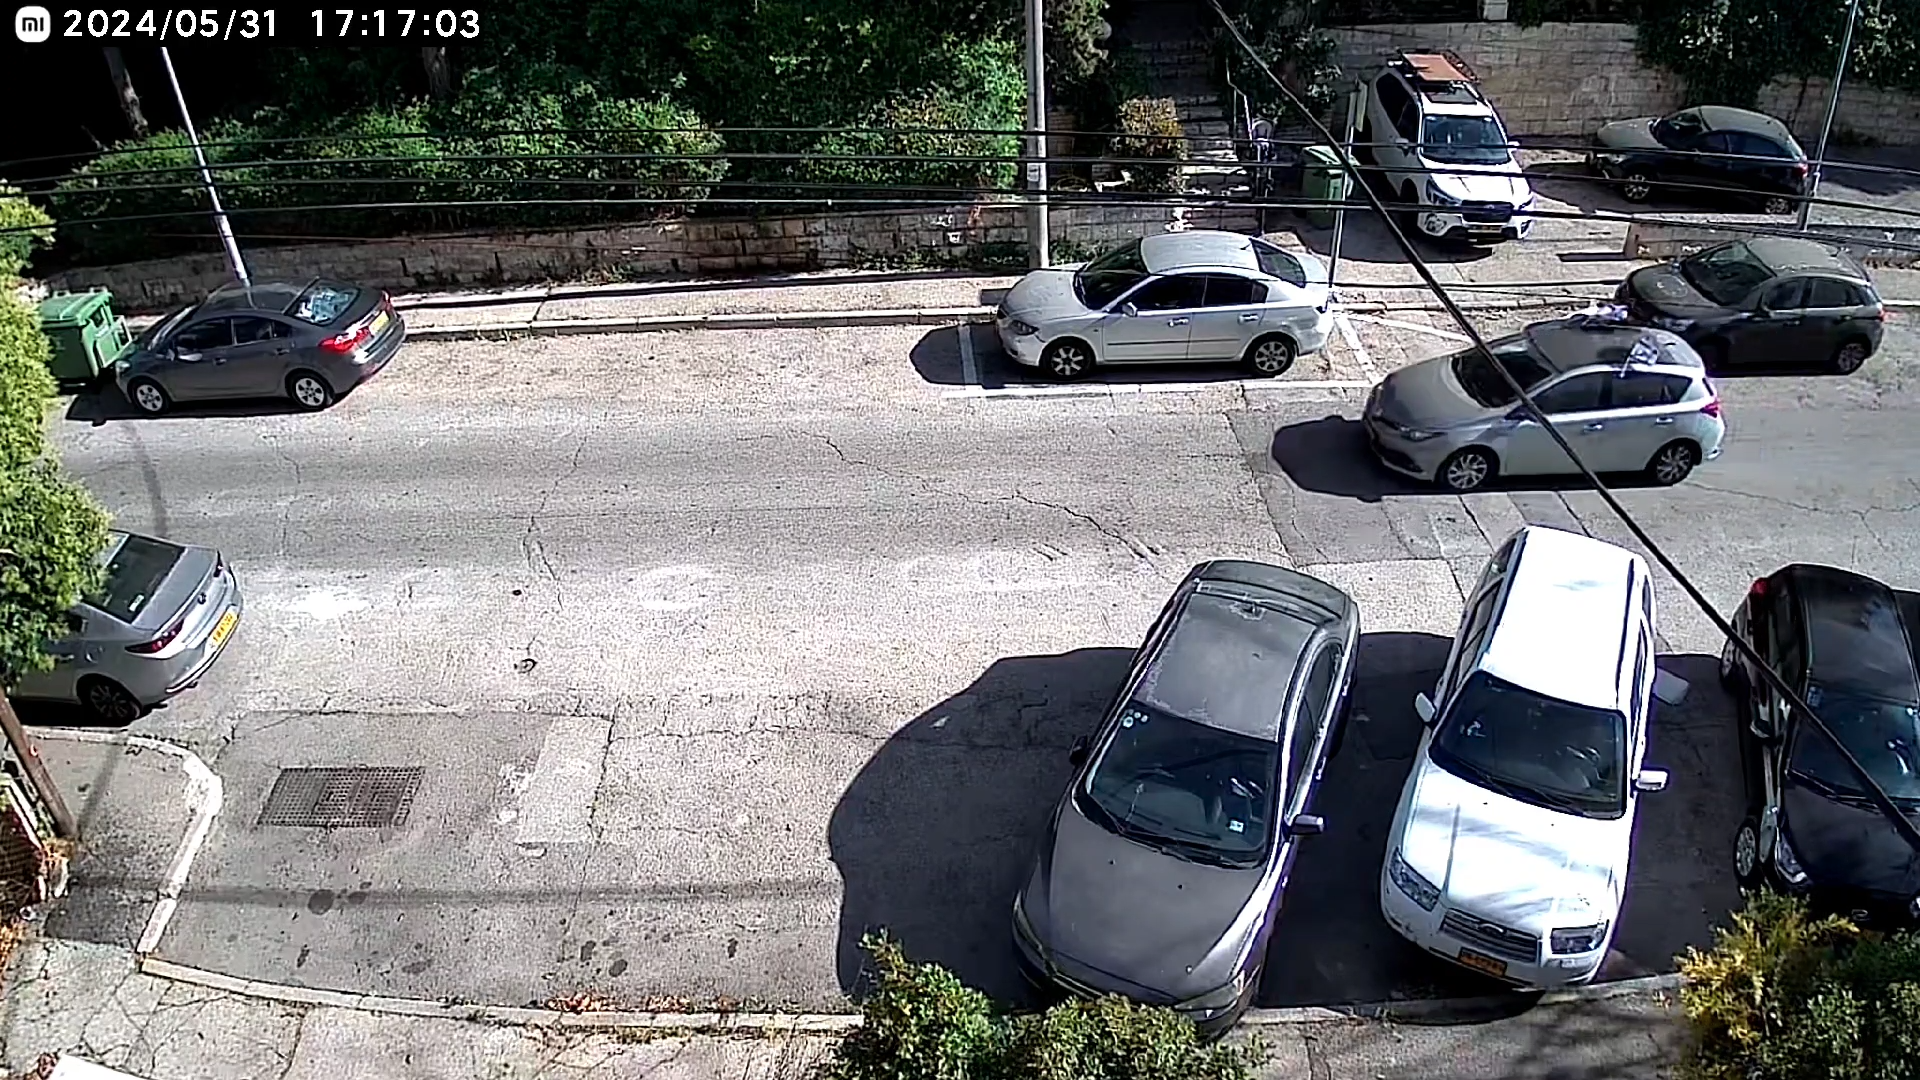movig car: (1365, 324, 1727, 483)
